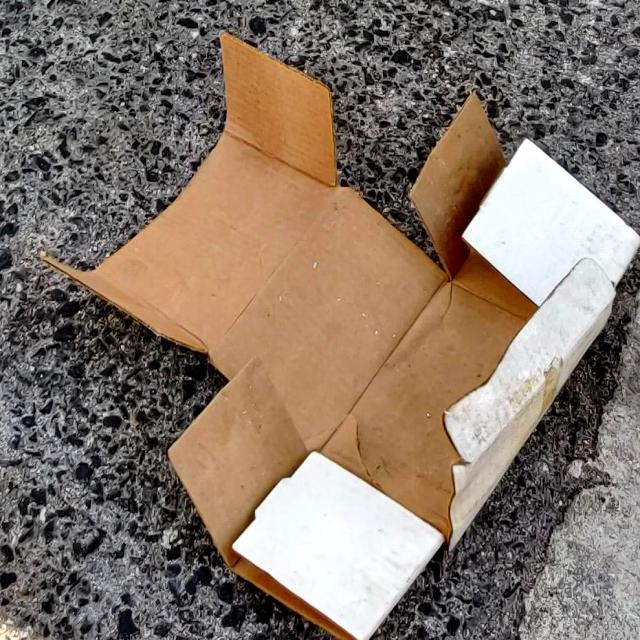Cardboard: (43, 33, 640, 639)
